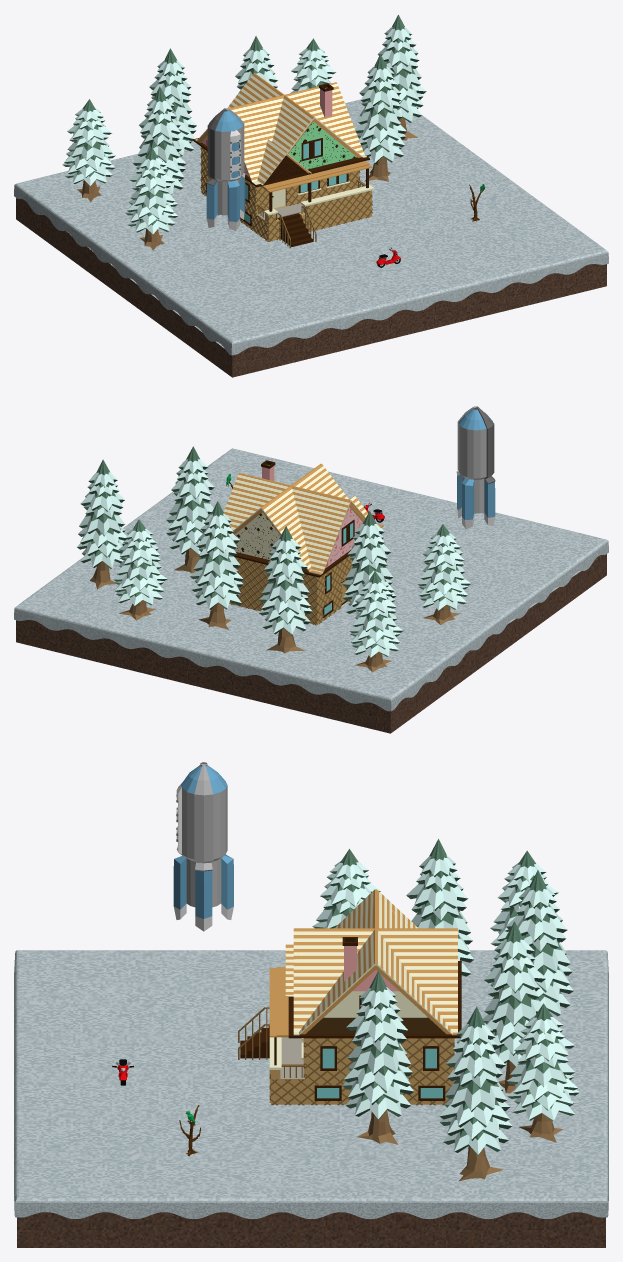
The picture shows the model from 3 angles, top to bottom: view 1: azimuth 30°, elevation 25°; view 2: azimuth 150°, elevation 25°; view 3: azimuth 270°, elevation 25°; orthographic projection. The views are drawn at different scales.
Parts seen in each view (by area): view 1: Cube.003, Cube.1102, OBJRANDOM_ROCKETSHIP; view 2: Cube.003, Cube.1102, OBJRANDOM_ROCKETSHIP; view 3: Cube.003, Cube.1102, OBJRANDOM_ROCKETSHIP.
Boxes of the visible parts, x1=… form: Cube.003: x1=14, y1=14, x2=608, y2=377; Cube.1102: x1=193, y1=73, x2=374, y2=248; OBJRANDOM_ROCKETSHIP: x1=206, y1=108, x2=245, y2=231; Cube.003: x1=14, y1=446, x2=608, y2=733; Cube.1102: x1=224, y1=460, x2=386, y2=625; OBJRANDOM_ROCKETSHIP: x1=456, y1=406, x2=495, y2=529; Cube.003: x1=14, y1=839, x2=608, y2=1247; Cube.1102: x1=238, y1=889, x2=461, y2=1105; OBJRANDOM_ROCKETSHIP: x1=173, y1=762, x2=233, y2=931.
Bounding box in the file's own units: 4040 × 2155 × 4040.
Materials: 32 (4 with a texture image).
